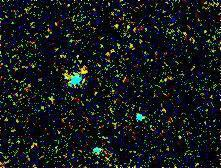star: (70, 56, 100, 86)
